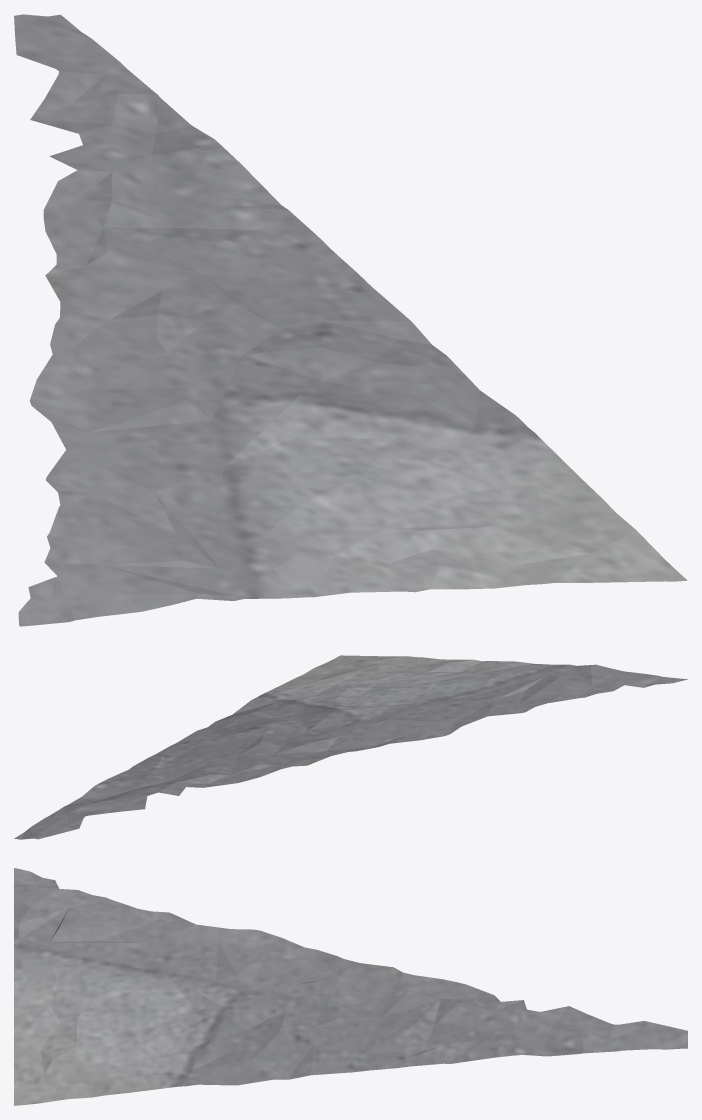
The picture shows the model from 3 angles, top to bottom: view 1: azimuth 30°, elevation 25°; view 2: azimuth 150°, elevation 25°; view 3: azimuth 270°, elevation 25°; orthographic projection. The views are drawn at different scales.
Bounding box in the file's own units: 2.06 × 0.3447 × 3.35.
1 material, 1 textured.
